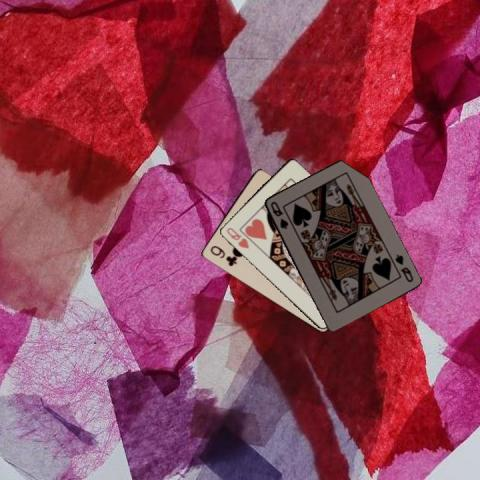9c: (207, 243, 238, 268)
Qh: (223, 225, 250, 250)
Qs: (391, 252, 415, 284), (268, 198, 290, 231)
